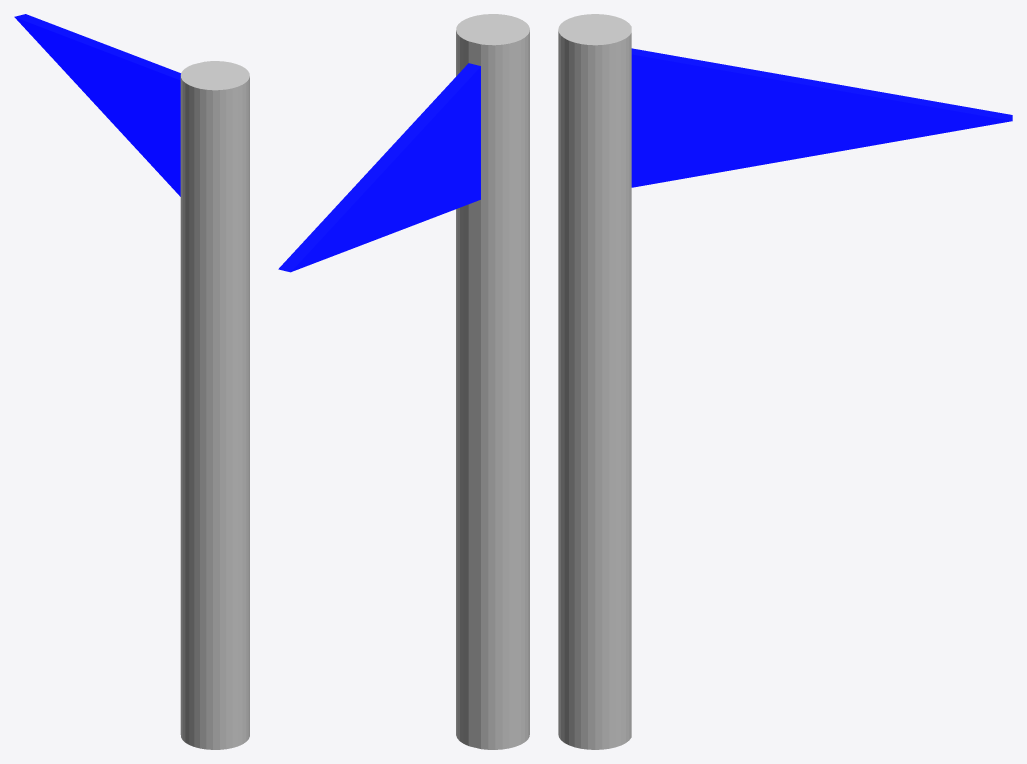
The model's file is FlagGizmo.fbx.
3 renders of one model, left to right at view 1: azimuth 30°, elevation 25°; view 2: azimuth 150°, elevation 25°; view 3: azimuth 270°, elevation 25°, orthographic. The views are drawn at different scales.
Parts seen in each view (by area): view 1: Cylinder; view 2: Cylinder; view 3: Cylinder.
Part boxes in pixels (x1,y1,x2,y2): Cylinder: [14, 14, 249, 749]; Cylinder: [278, 14, 529, 749]; Cylinder: [558, 14, 1012, 749].
Size of the model in its own units: 5.18 by 54.48 by 31.84.
